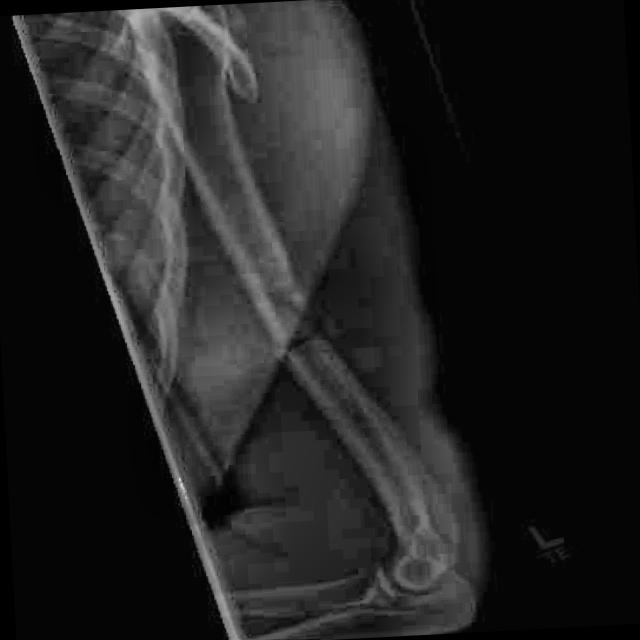humerus: (228, 277, 388, 428)
